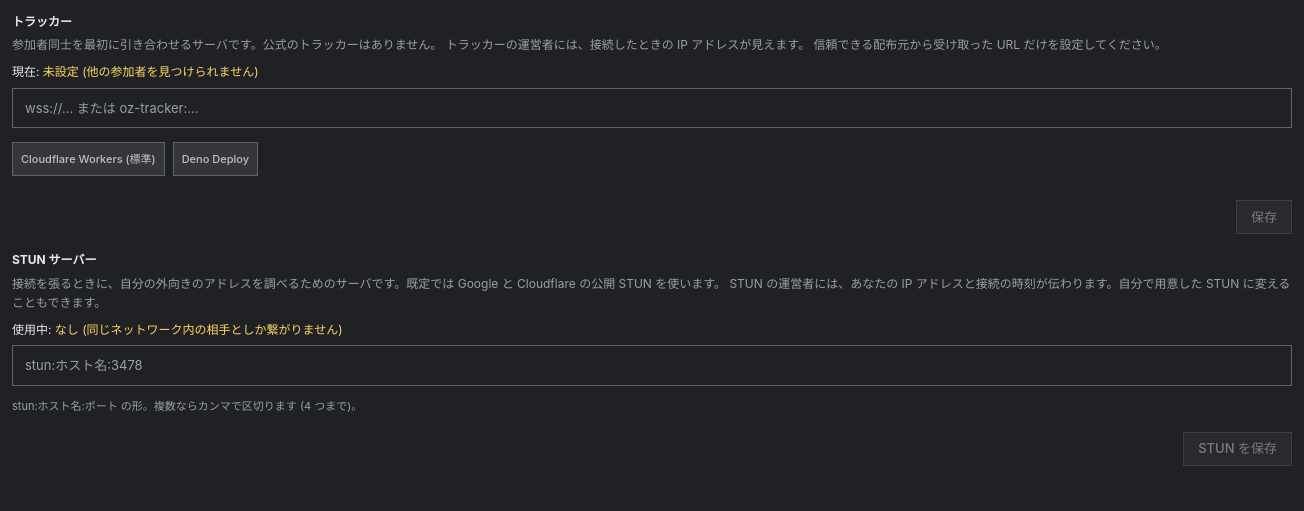
it: STUN の選択 › 不正な入力はエラーを出して保存しない
Step 1. Type "turn:relay.example.org" into the field named "STUN サーバー" → (652, 366), box [12,345,1292,386]
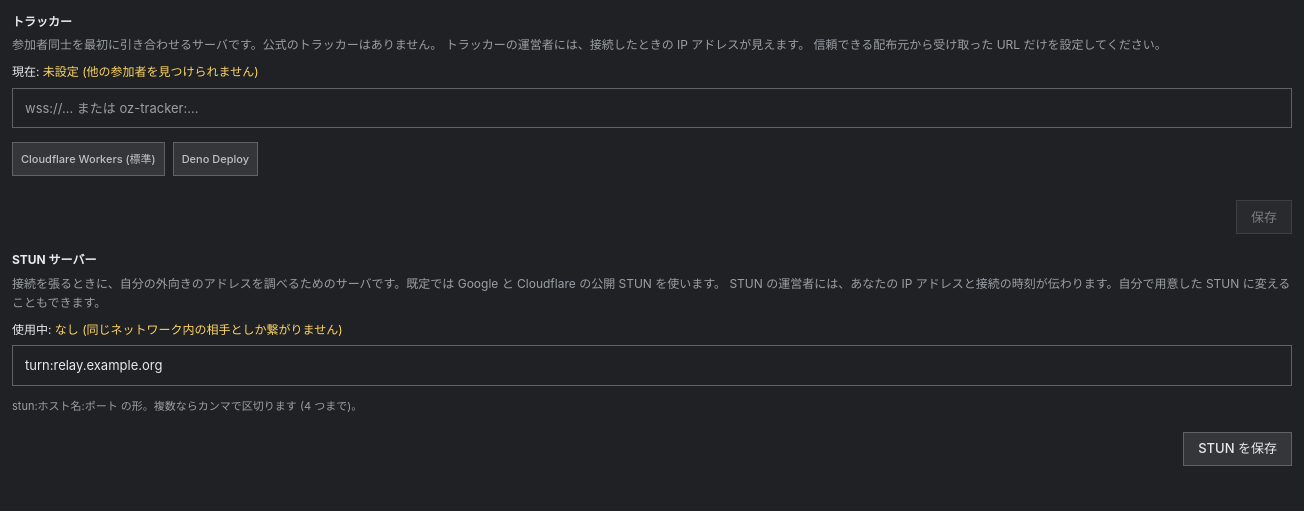
Step 2. Click the button "STUN を保存" → (1238, 448), box [1183,432,1292,466]
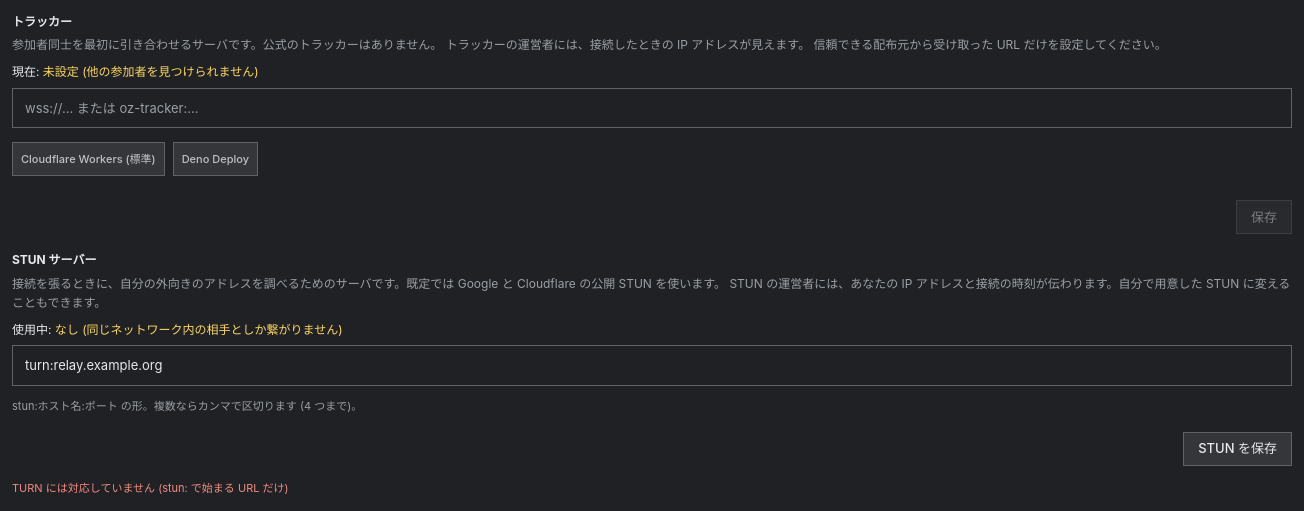
Now the message shows "TURN", box [12,480,288,494]
